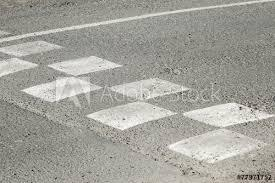Bump: (0, 29, 274, 182)
